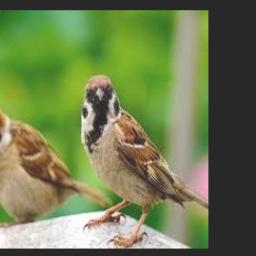Sparrow: (82, 74, 208, 247), (0, 105, 111, 228)
